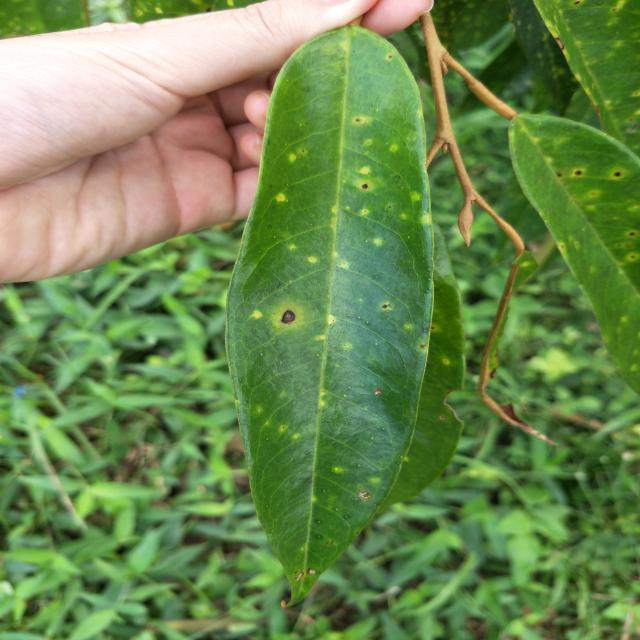Leaf Spot: (348, 86, 395, 207), (368, 277, 430, 361), (272, 132, 318, 239), (596, 209, 640, 268), (561, 160, 640, 192), (264, 297, 305, 332)
